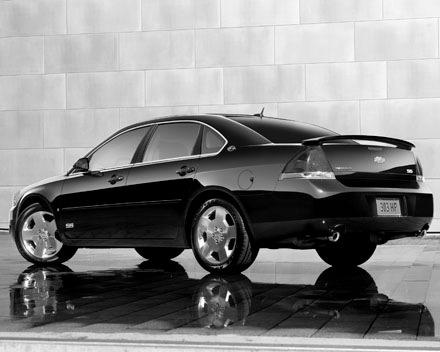car: (9, 112, 439, 278)
